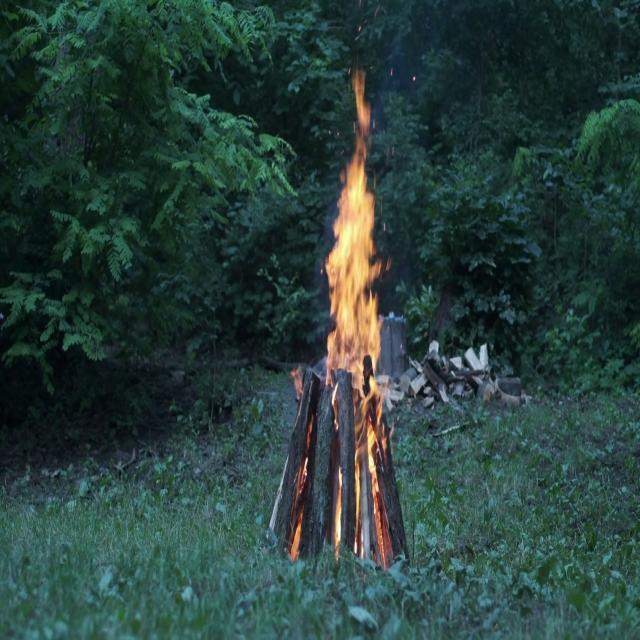Fire: (321, 62, 394, 538)
